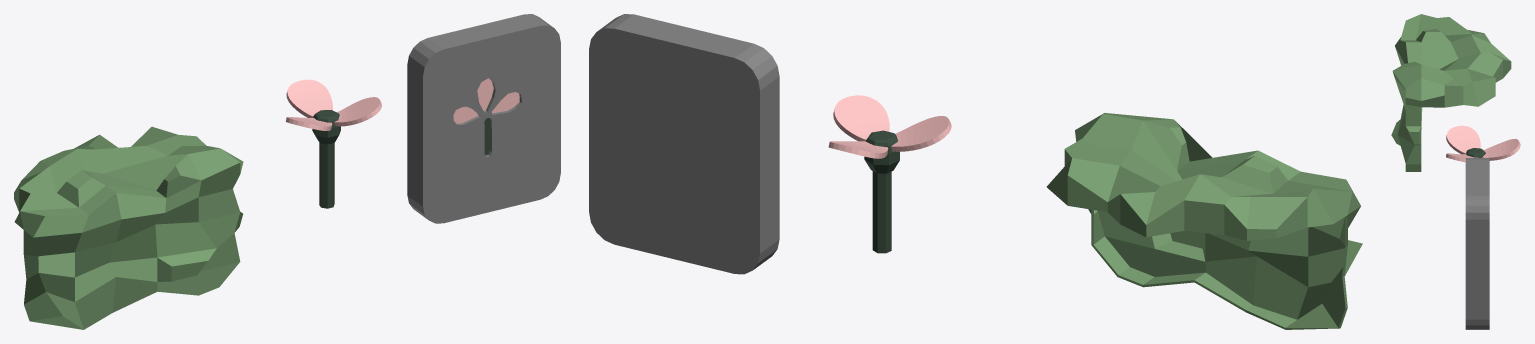
File: 青苔花.fbx
The picture shows the model from 3 angles, left to right: view 1: azimuth 30°, elevation 25°; view 2: azimuth 150°, elevation 25°; view 3: azimuth 270°, elevation 25°; orthographic projection. The views are drawn at different scales.
Visible parts, largest first — view 1: 立方体, 立方体.001, 平面.001, 柱体; view 2: 立方体.001, 立方体, 平面.001, 柱体; view 3: 立方体, 立方体.001, 平面.001, 柱体.
Boxes of the visible parts, x1=… form: 立方体: x1=14, y1=126, x2=243, y2=329; 立方体.001: x1=407, y1=14, x2=560, y2=223; 平面.001: x1=285, y1=79, x2=381, y2=130; 柱体: x1=312, y1=110, x2=340, y2=208; 立方体.001: x1=589, y1=14, x2=779, y2=274; 立方体: x1=1046, y1=113, x2=1362, y2=329; 平面.001: x1=828, y1=95, x2=951, y2=158; 柱体: x1=864, y1=130, x2=899, y2=253; 立方体: x1=1391, y1=14, x2=1511, y2=171; 立方体.001: x1=1465, y1=158, x2=1489, y2=329; 平面.001: x1=1446, y1=125, x2=1520, y2=162; 柱体: x1=1466, y1=148, x2=1485, y2=157.
Bounding box in the file's own units: 949 × 277 × 244.
